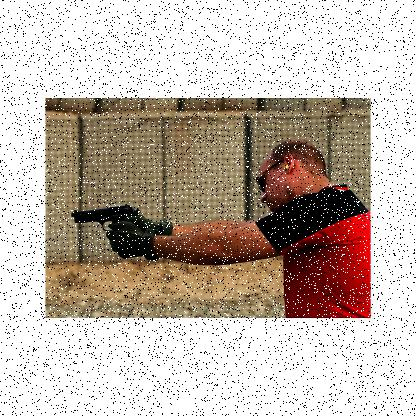gun: (70, 204, 143, 256)
